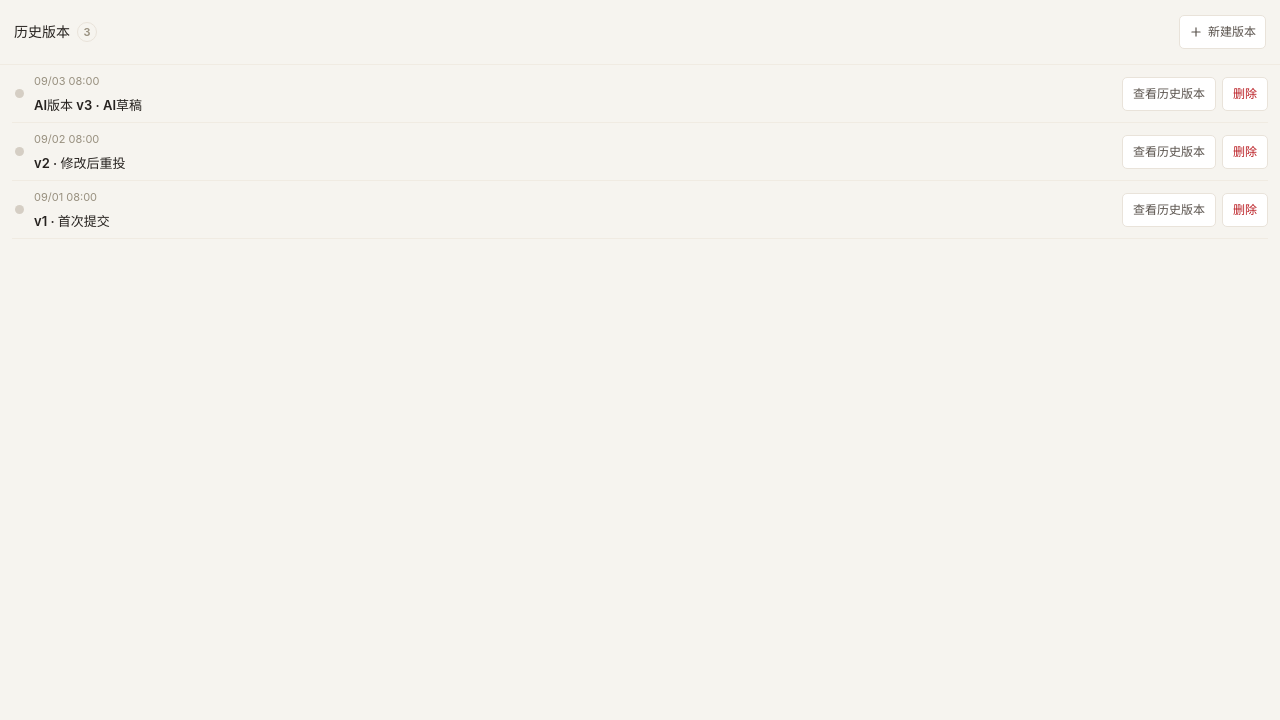
命名版本表单保存后折叠并通知工作台同步 revision
The width and height of the screenshot is (1280, 720).
Click the button with aria-label "新建版本" at (1222, 32), box [1179,15,1266,49]
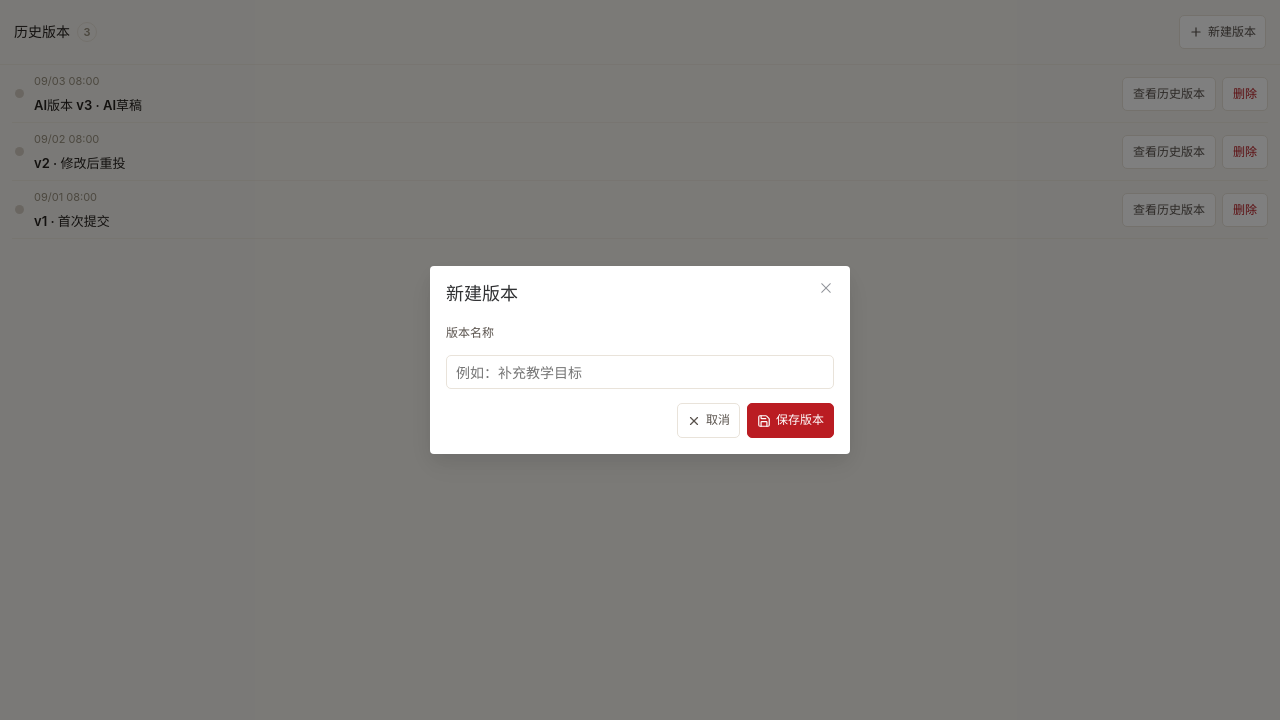
Type "补充教学目标" into the field labelled "版本名称" at (640, 372), box [446,355,834,389]
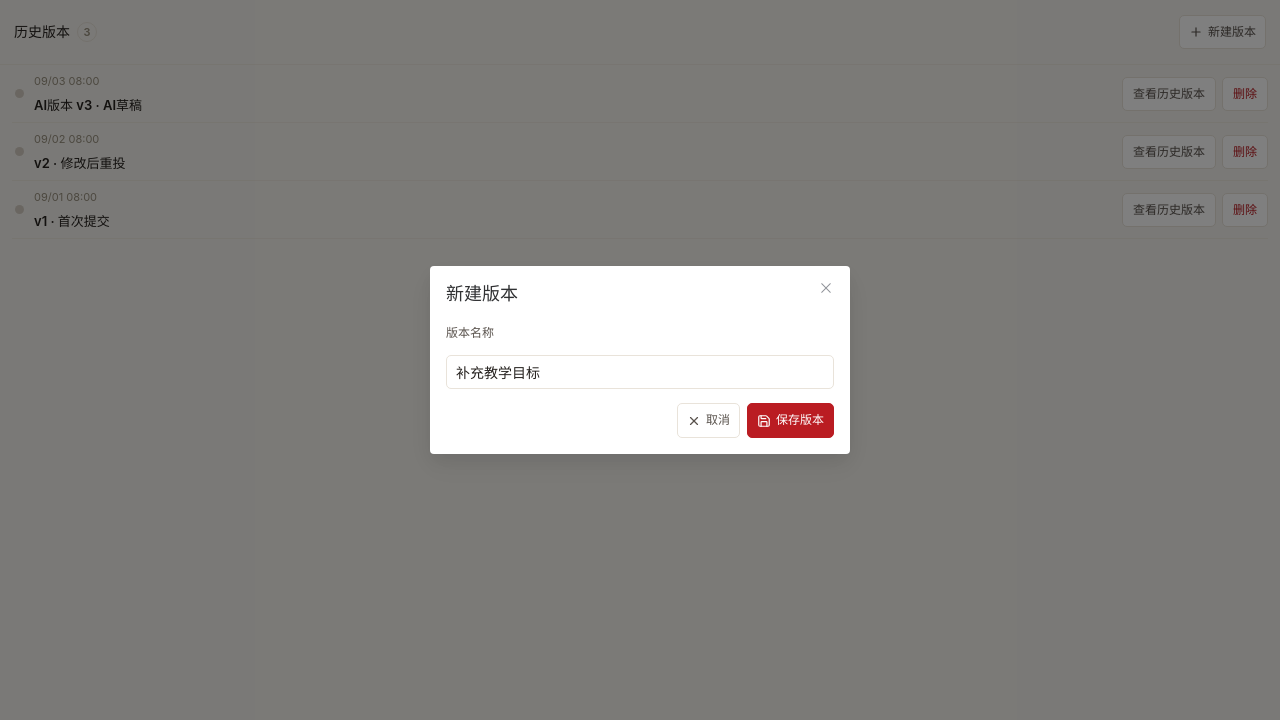
Submit the form, box [446,323,834,438]
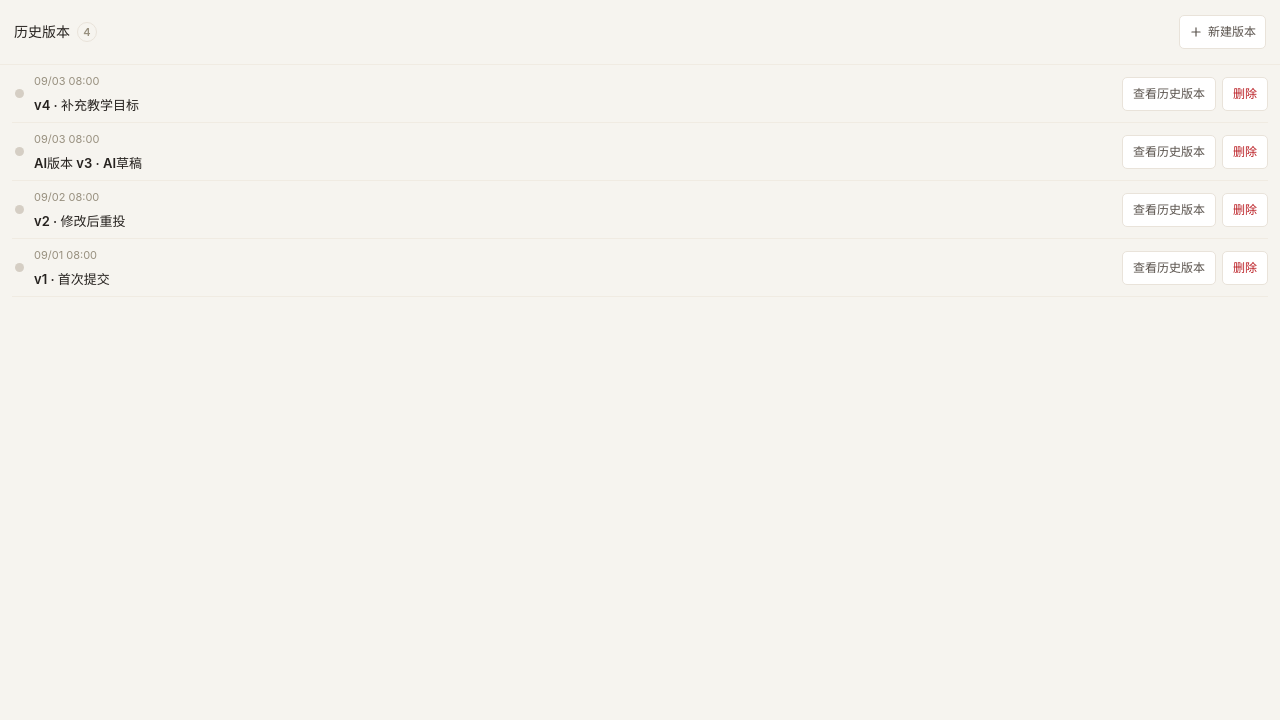
Check: the text "v4 · 补充教学目标" is shown, box [34,97,139,113]
